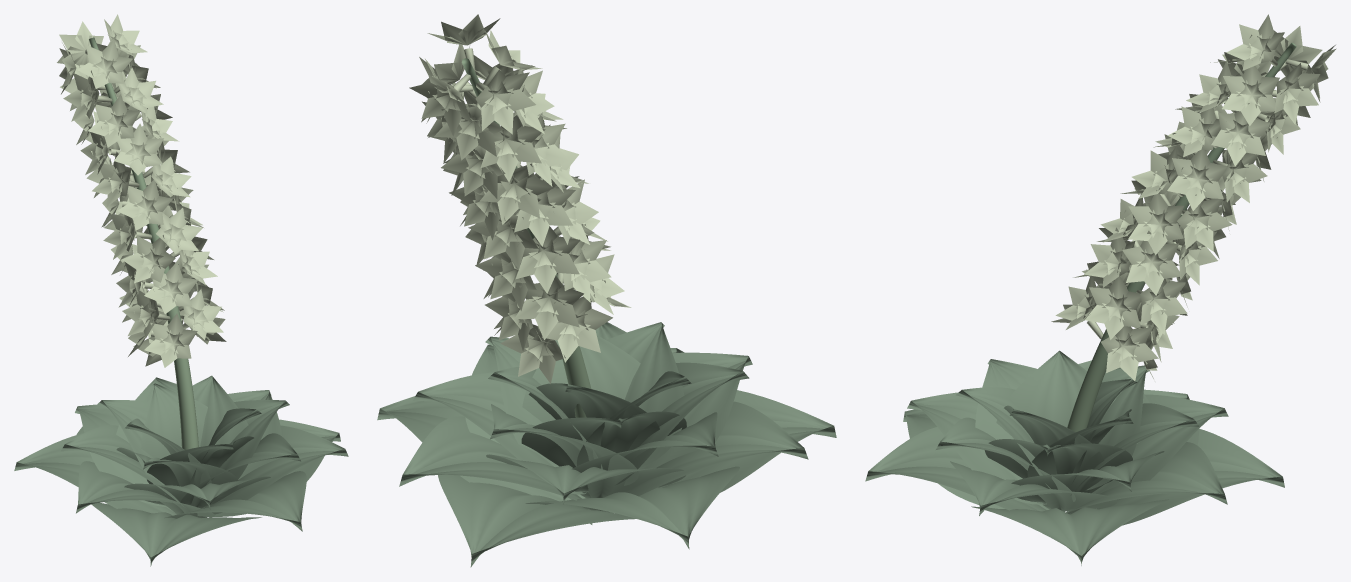
3 views of the same model, side by side, from view 1: azimuth 30°, elevation 25°; view 2: azimuth 150°, elevation 25°; view 3: azimuth 270°, elevation 25° (orthographic). The views are drawn at different scales.
Parts seen in each view (by area): view 1: leafy_base, flower_stalk, floret.001, floret.022, floret.035, floret.043, floret.014, floret.009, floret.030, floret.017, floret.027, floret.004 (+12 smaller); view 2: leafy_base, floret.008, floret.045, floret.016, floret.029, floret.037, floret.003, floret.047, floret, floret.024, floret.021, floret.042 (+14 smaller); view 3: leafy_base, flower_stalk, floret.028, floret.041, floret.007, floret.020, floret.015, floret.036, floret.002, floret.023, floret.046, floret.033 (+12 smaller).
Boxes of the visible parts, <box> form: leafy_base: <box>14,375,348,566</box>; flower_stalk: <box>89,37,198,449</box>; floret.001: <box>144,313,197,367</box>; floret.022: <box>117,180,172,230</box>; floret.035: <box>88,94,140,147</box>; floret.043: <box>77,39,132,88</box>; floret.014: <box>122,235,175,283</box>; floret.009: <box>144,261,198,314</box>; floret.030: <box>114,123,163,175</box>; floret.017: <box>156,208,202,254</box>; floret.027: <box>92,151,139,207</box>; floret.004: <box>182,289,223,339</box>; leafy_base: <box>377,322,836,567</box>; floret.008: <box>514,275,583,339</box>; floret.045: <box>475,69,535,134</box>; floret.016: <box>515,226,580,293</box>; floret.029: <box>480,163,554,224</box>; floret.037: <box>480,115,545,182</box>; floret.003: <box>542,296,612,362</box>; floret.047: <box>409,74,471,136</box>; floret: <box>500,319,565,383</box>; floret.024: <box>514,179,575,246</box>; floret.021: <box>468,210,538,269</box>; floret.042: <box>434,102,503,160</box>; leafy_base: <box>865,350,1284,565</box>; flower_stalk: <box>1067,42,1296,431</box>; floret.028: <box>1167,149,1228,210</box>; floret.041: <box>1222,60,1279,125</box>; floret.007: <box>1085,276,1141,339</box>; floret.020: <box>1128,190,1183,255</box>; floret.015: <box>1122,230,1182,295</box>; floret.036: <box>1211,103,1272,166</box>; floret.002: <box>1101,319,1158,380</box>; floret.023: <box>1177,194,1232,251</box>; floret.046: <box>1226,14,1284,70</box>; floret.033: <box>1167,106,1220,157</box>.
Bounding box in the file's own units: 3.41 × 4.92 × 4.09.
